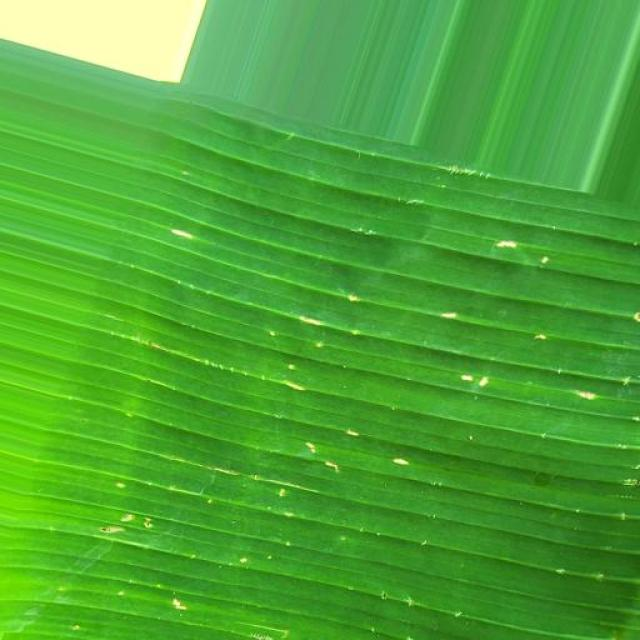Black_rot: (76, 179, 640, 640)
